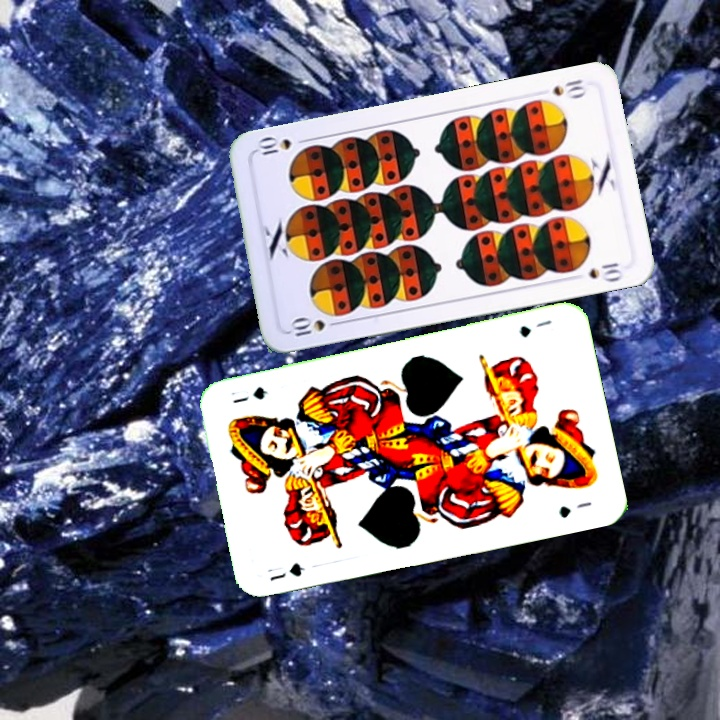GU: (263, 559, 307, 584), (516, 316, 554, 340)
S10: (285, 314, 344, 340), (548, 75, 589, 101)
